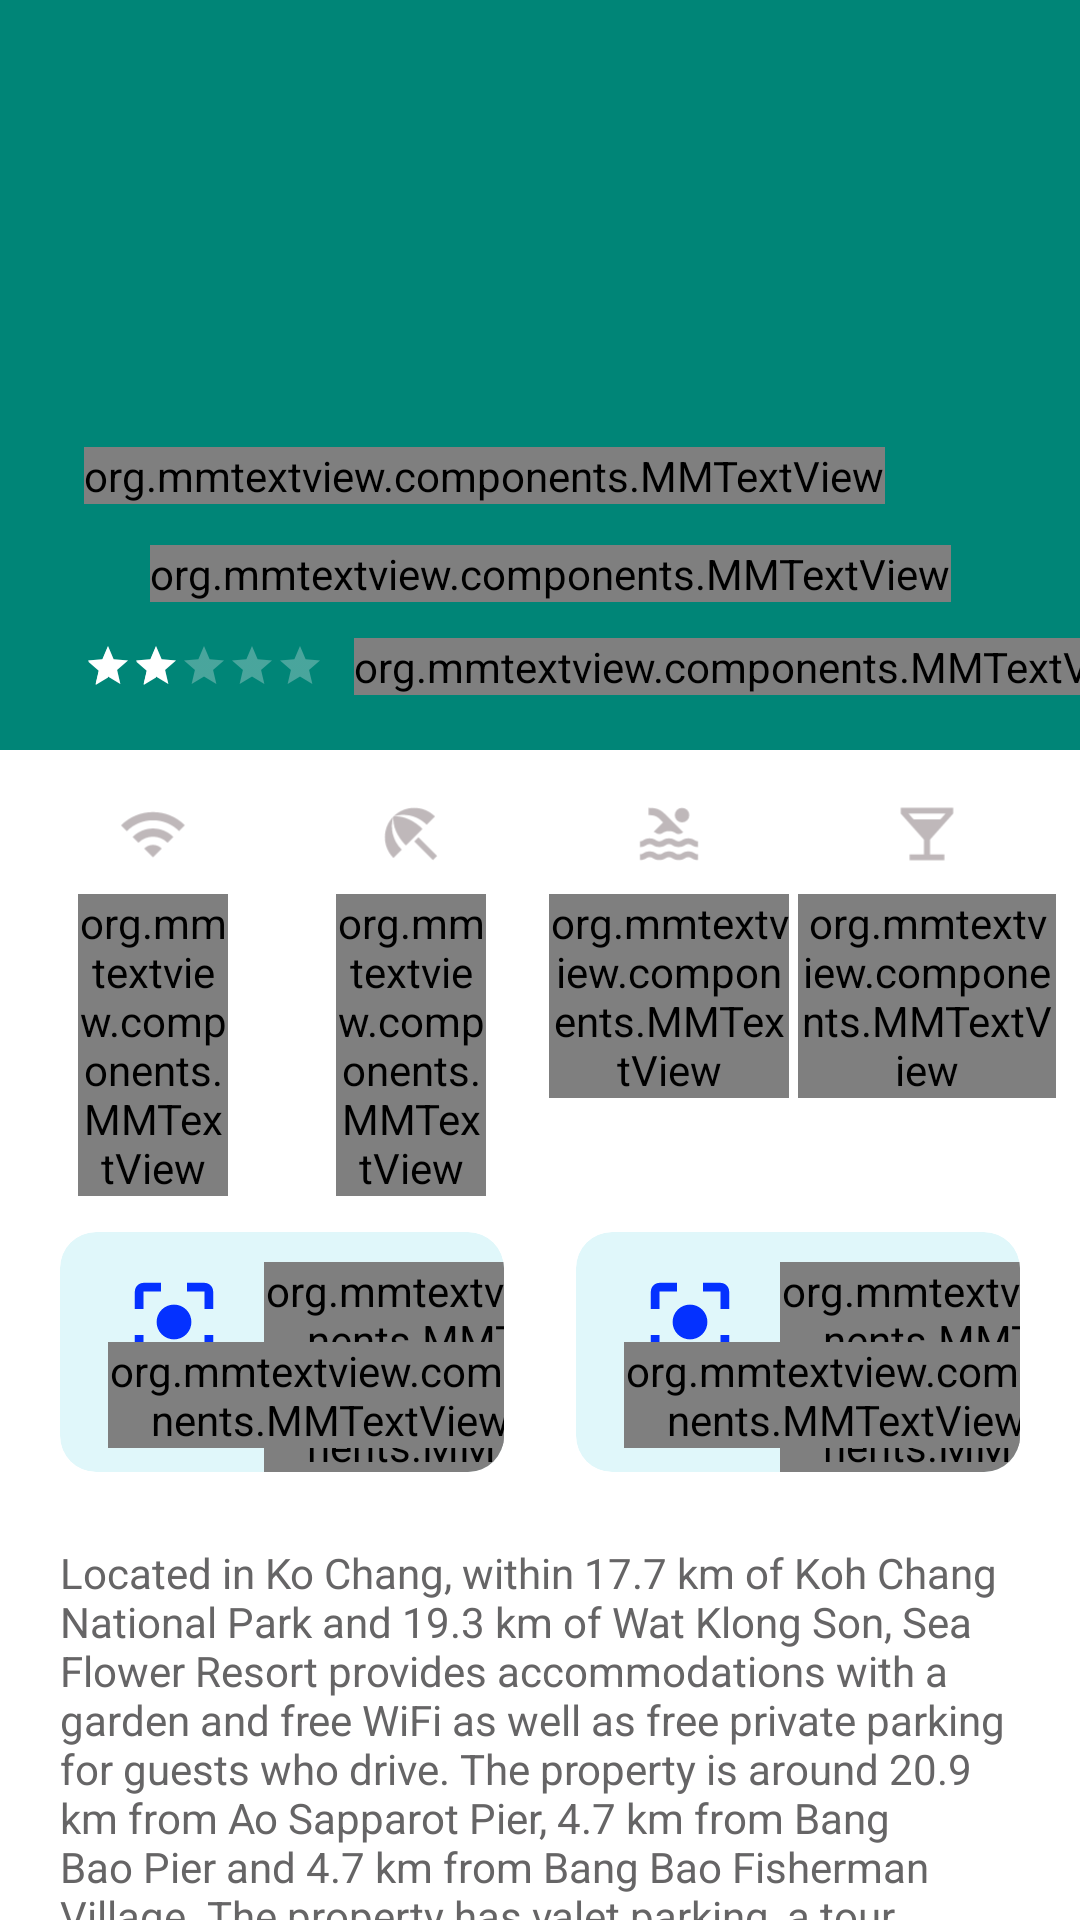

Named icons in this screenshot (1080 × 1920) and their centers, (x=x, y=y):
bar: (x=927, y=834)
beach: (x=411, y=834)
wifi: (x=153, y=834)
